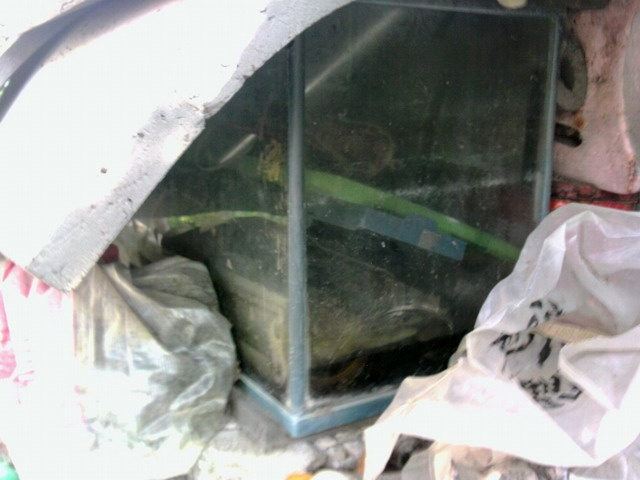aquarium: (119, 1, 566, 439)
plastic_bag: (364, 201, 640, 469)
